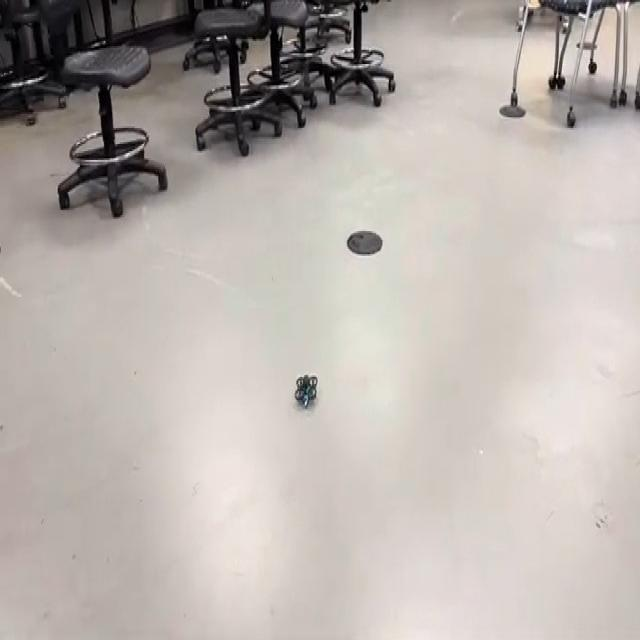drone: (286, 365, 325, 416)
